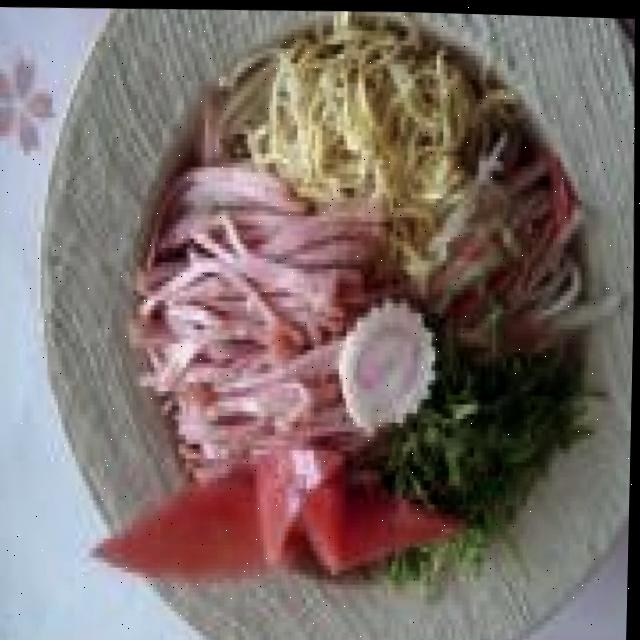面条主食: (29, 1, 640, 640)
